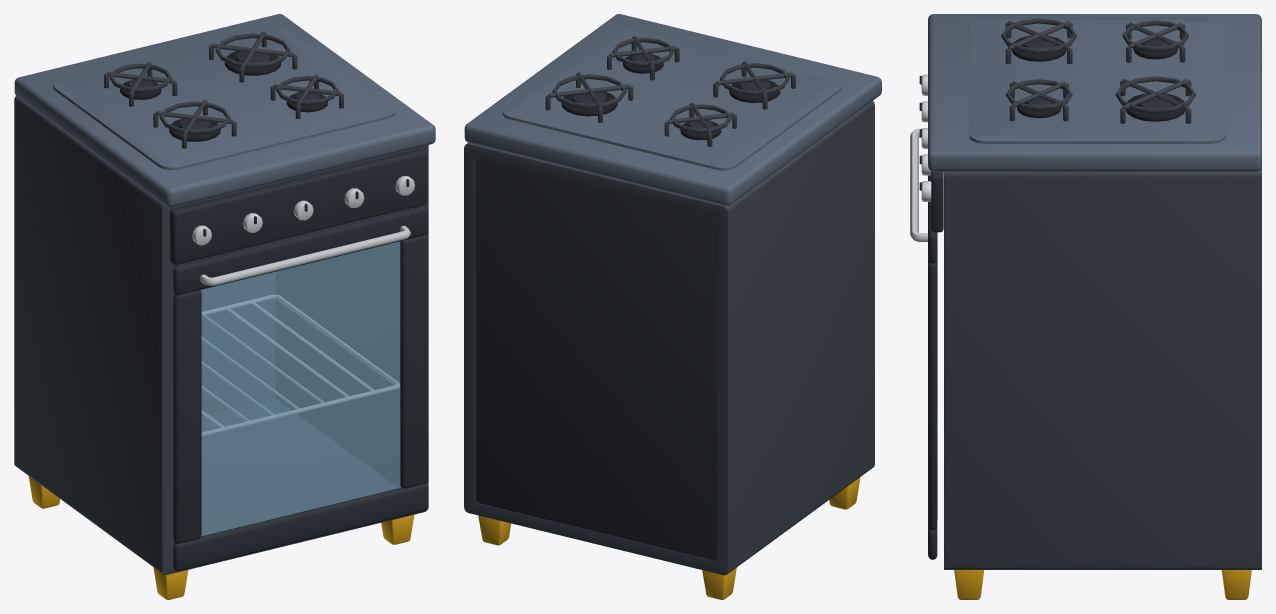
Rendered from fogao_modulo_grafite.glb.
3 views of the same model, side by side, from view 1: azimuth 30°, elevation 25°; view 2: azimuth 150°, elevation 25°; view 3: azimuth 270°, elevation 25° (orthographic). The views are drawn at different scales.
Parts seen in each view (by area): view 1: fogao_modulo_grafite, porta_forno; view 2: fogao_modulo_grafite; view 3: fogao_modulo_grafite, porta_forno.
Boxes of the visible parts, x1,y1,x2,y2 form: fogao_modulo_grafite: (14,14,435,599); porta_forno: (173,206,428,571); fogao_modulo_grafite: (464,14,881,599); fogao_modulo_grafite: (919,14,1261,599); porta_forno: (910,128,937,559).
Bounding box in the file's own units: 0.598 × 0.939 × 0.631.
Materials: 2 (1 with a texture image).
